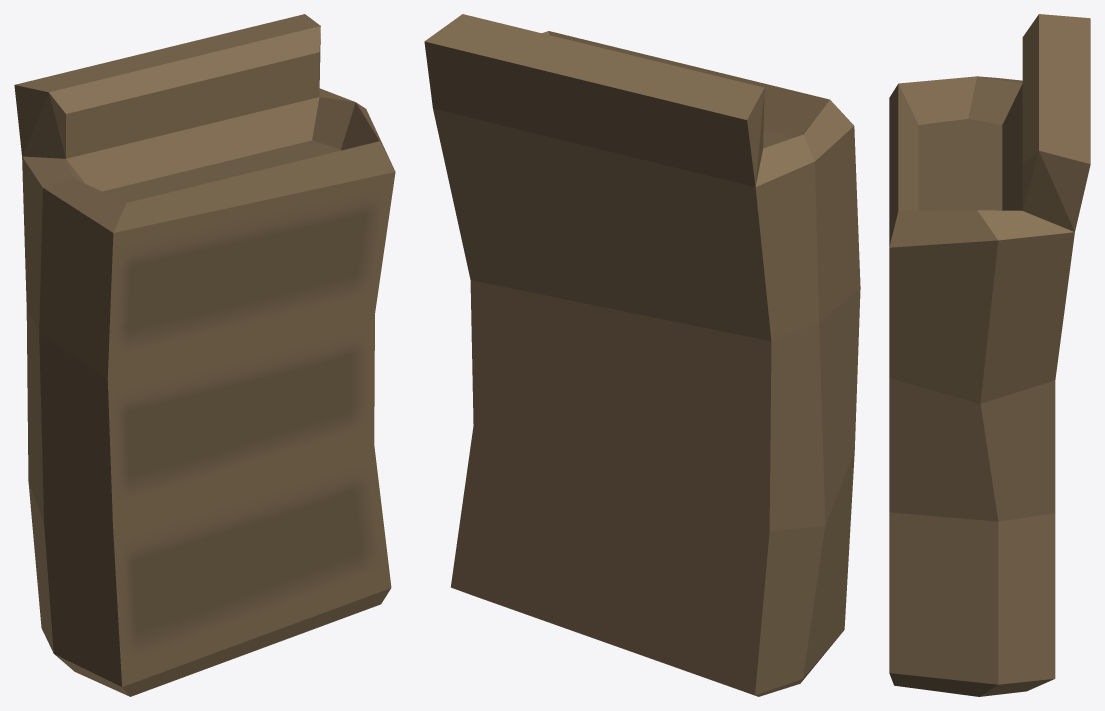
File: SM_Chr_Attach_Pouch_Mag_01.fbx
3 views of the same model, side by side, from view 1: azimuth 30°, elevation 25°; view 2: azimuth 150°, elevation 25°; view 3: azimuth 270°, elevation 25° (orthographic). The views are drawn at different scales.
Visible parts, largest first — view 1: SM_Chr_Attach_Pouch_Mag_01; view 2: SM_Chr_Attach_Pouch_Mag_01; view 3: SM_Chr_Attach_Pouch_Mag_01.
Boxes of the visible parts, left/top/right/bottom form: SM_Chr_Attach_Pouch_Mag_01: left=14, top=14, right=395, bottom=696; SM_Chr_Attach_Pouch_Mag_01: left=424, top=14, right=860, bottom=696; SM_Chr_Attach_Pouch_Mag_01: left=889, top=14, right=1090, bottom=696.
Bounding box in the file's own units: 11.35 × 18.47 × 5.87.
